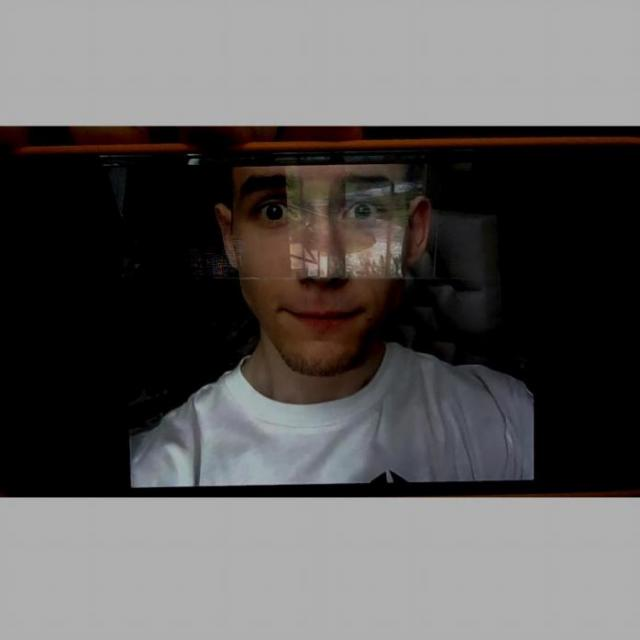device: (0, 140, 640, 495)
